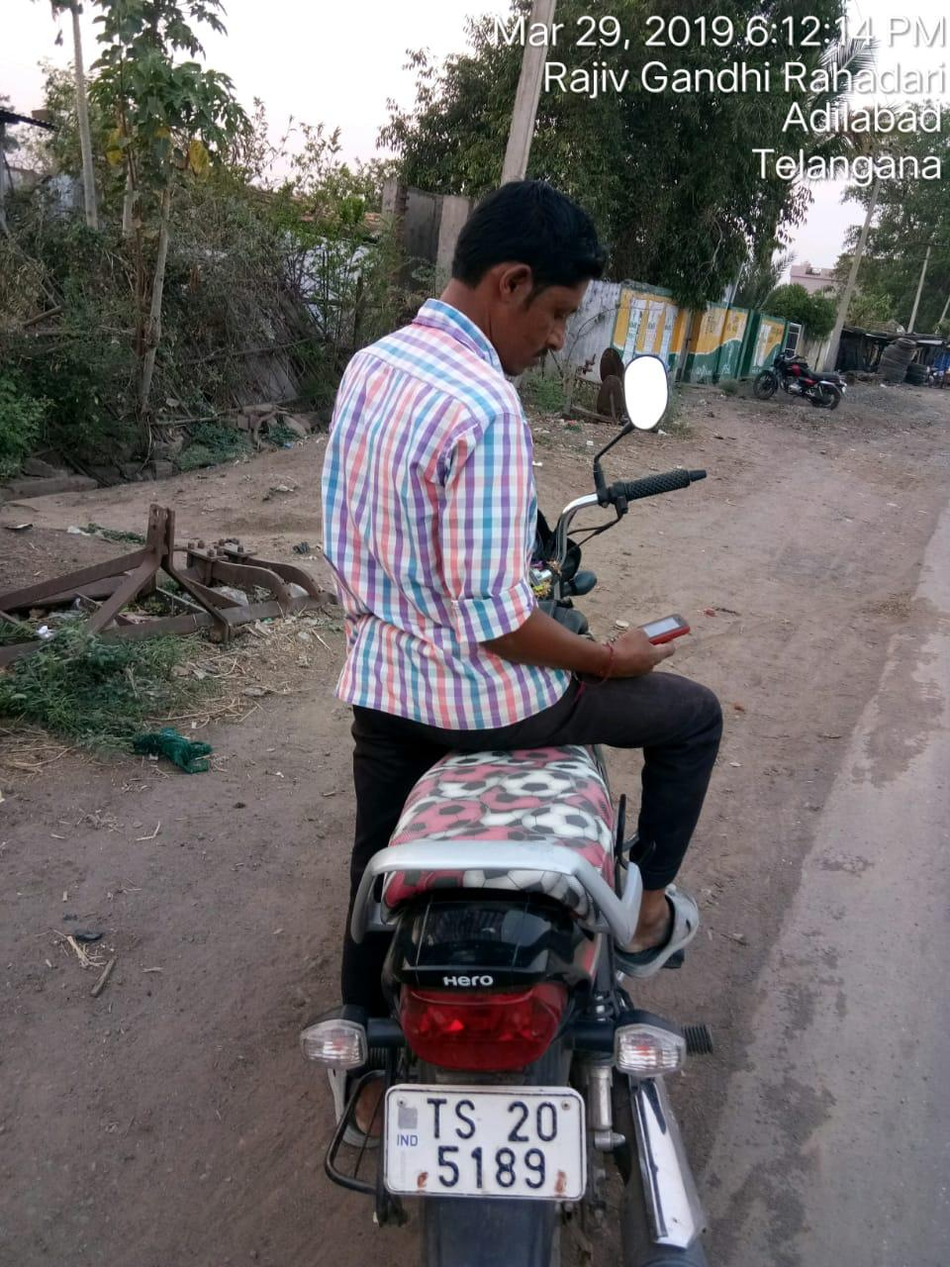plate: (352, 1062, 605, 1225)
